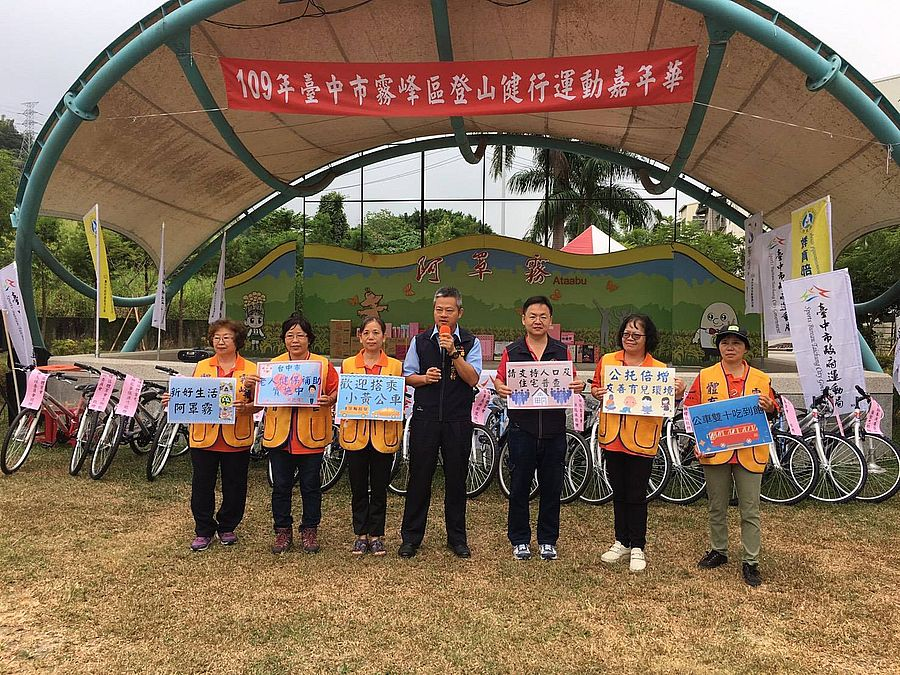people: (691, 322, 773, 579), (165, 320, 256, 549), (404, 292, 481, 559), (501, 303, 575, 559), (597, 312, 663, 572), (262, 319, 329, 551), (338, 319, 399, 557)
